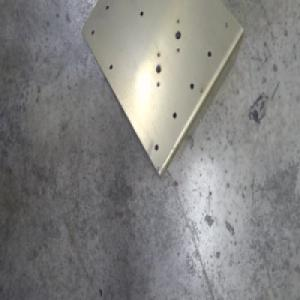MetalSheet: (80, 0, 244, 181)
